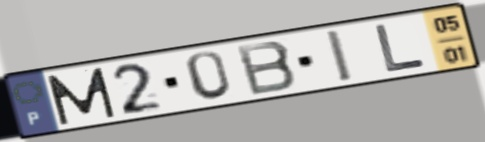0: (183, 49, 234, 103)
2: (110, 61, 166, 116)
B: (233, 38, 300, 98)
I: (323, 27, 357, 85)
L: (372, 22, 429, 75)
M: (43, 65, 120, 128)
